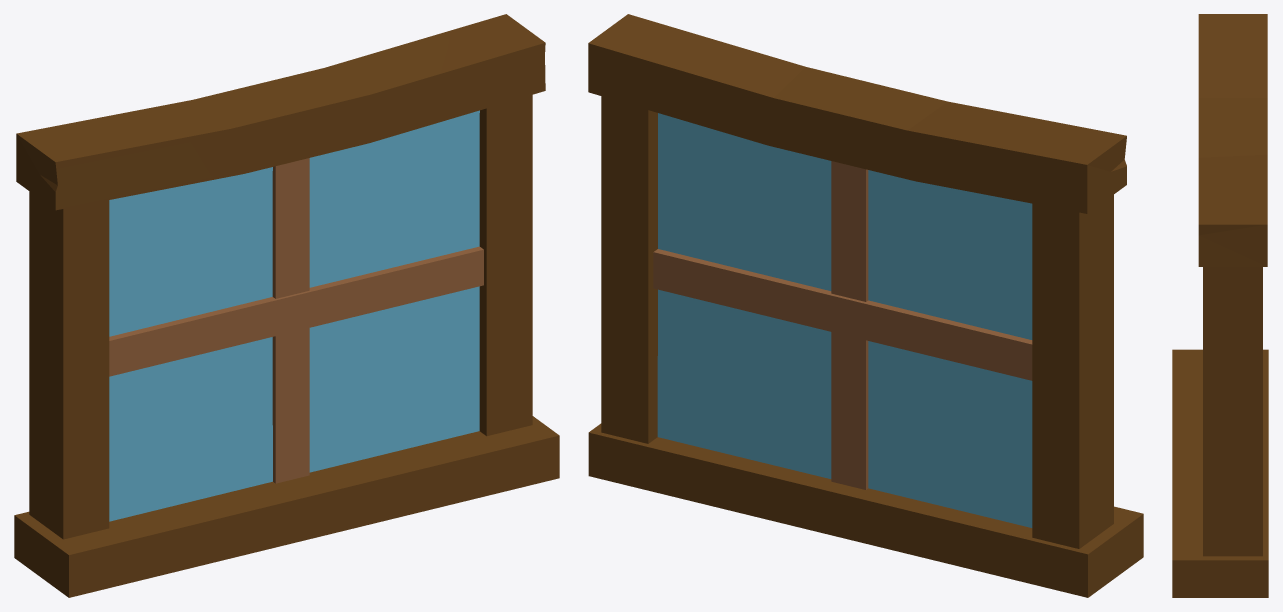
The model's file is Window_05.fbx.
3 views of the same model, side by side, from view 1: azimuth 30°, elevation 25°; view 2: azimuth 150°, elevation 25°; view 3: azimuth 270°, elevation 25° (orthographic). The views are drawn at different scales.
Parts seen in each view (by area): view 1: Window_05; view 2: Window_05; view 3: Window_05.
Part boxes in pixels (x1,y1,x2,y2): Window_05: (14,14,559,597); Window_05: (588,14,1143,597); Window_05: (1172,14,1268,597).
Size of the model in its own units: 113 by 93.37 by 21.77.
